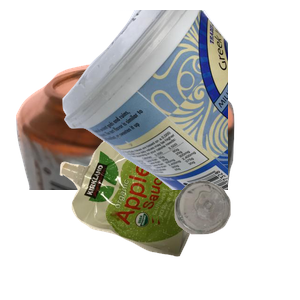glass: (172, 178, 300, 300)
metal: (13, 61, 240, 241)
plastic: (60, 10, 300, 190)
trash: (57, 137, 257, 300)
